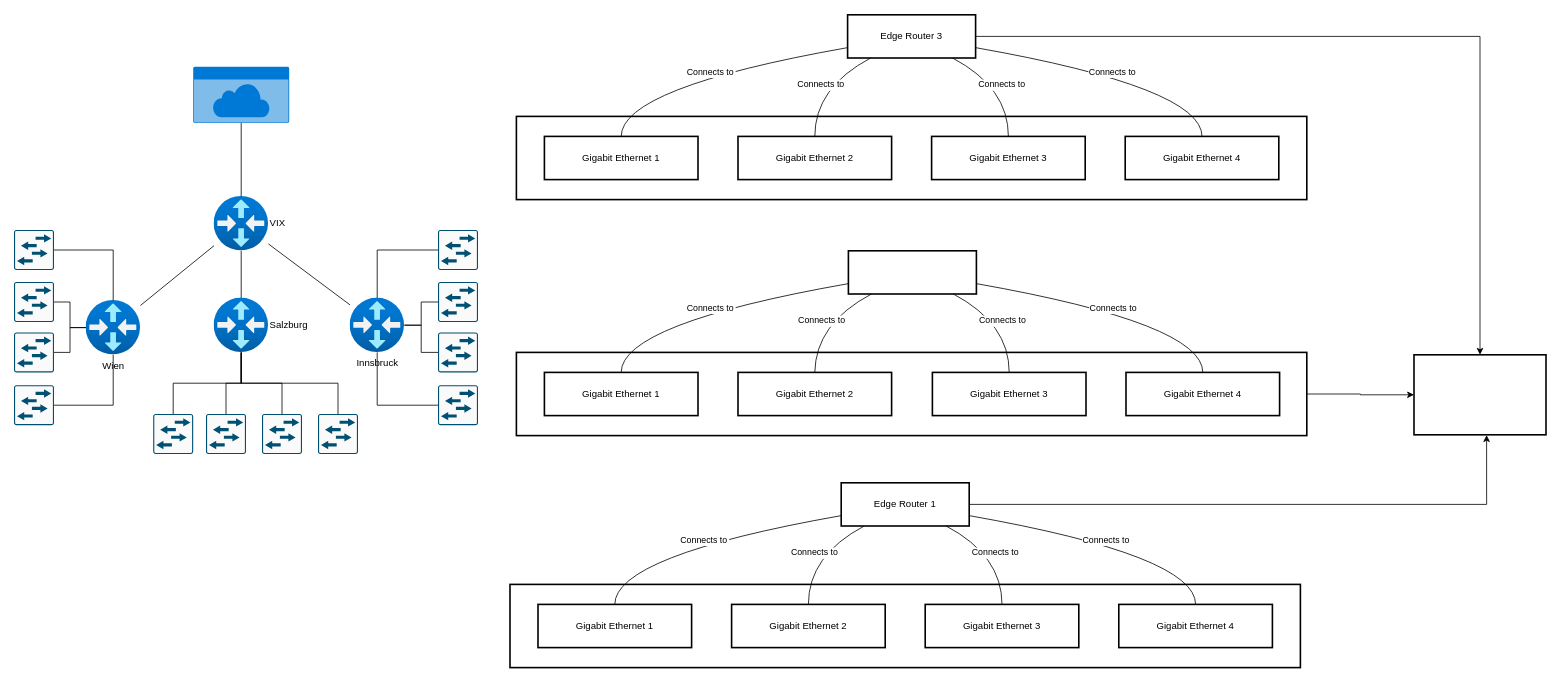
The diagram is 1561 pixels wide and 682 high, and some of its shapes have lost their labels. Each missing label, with the centre of its shape:
Central Router: point (1479, 394)
Cloud: point (241, 94)
Edge Router 2: point (912, 272)
